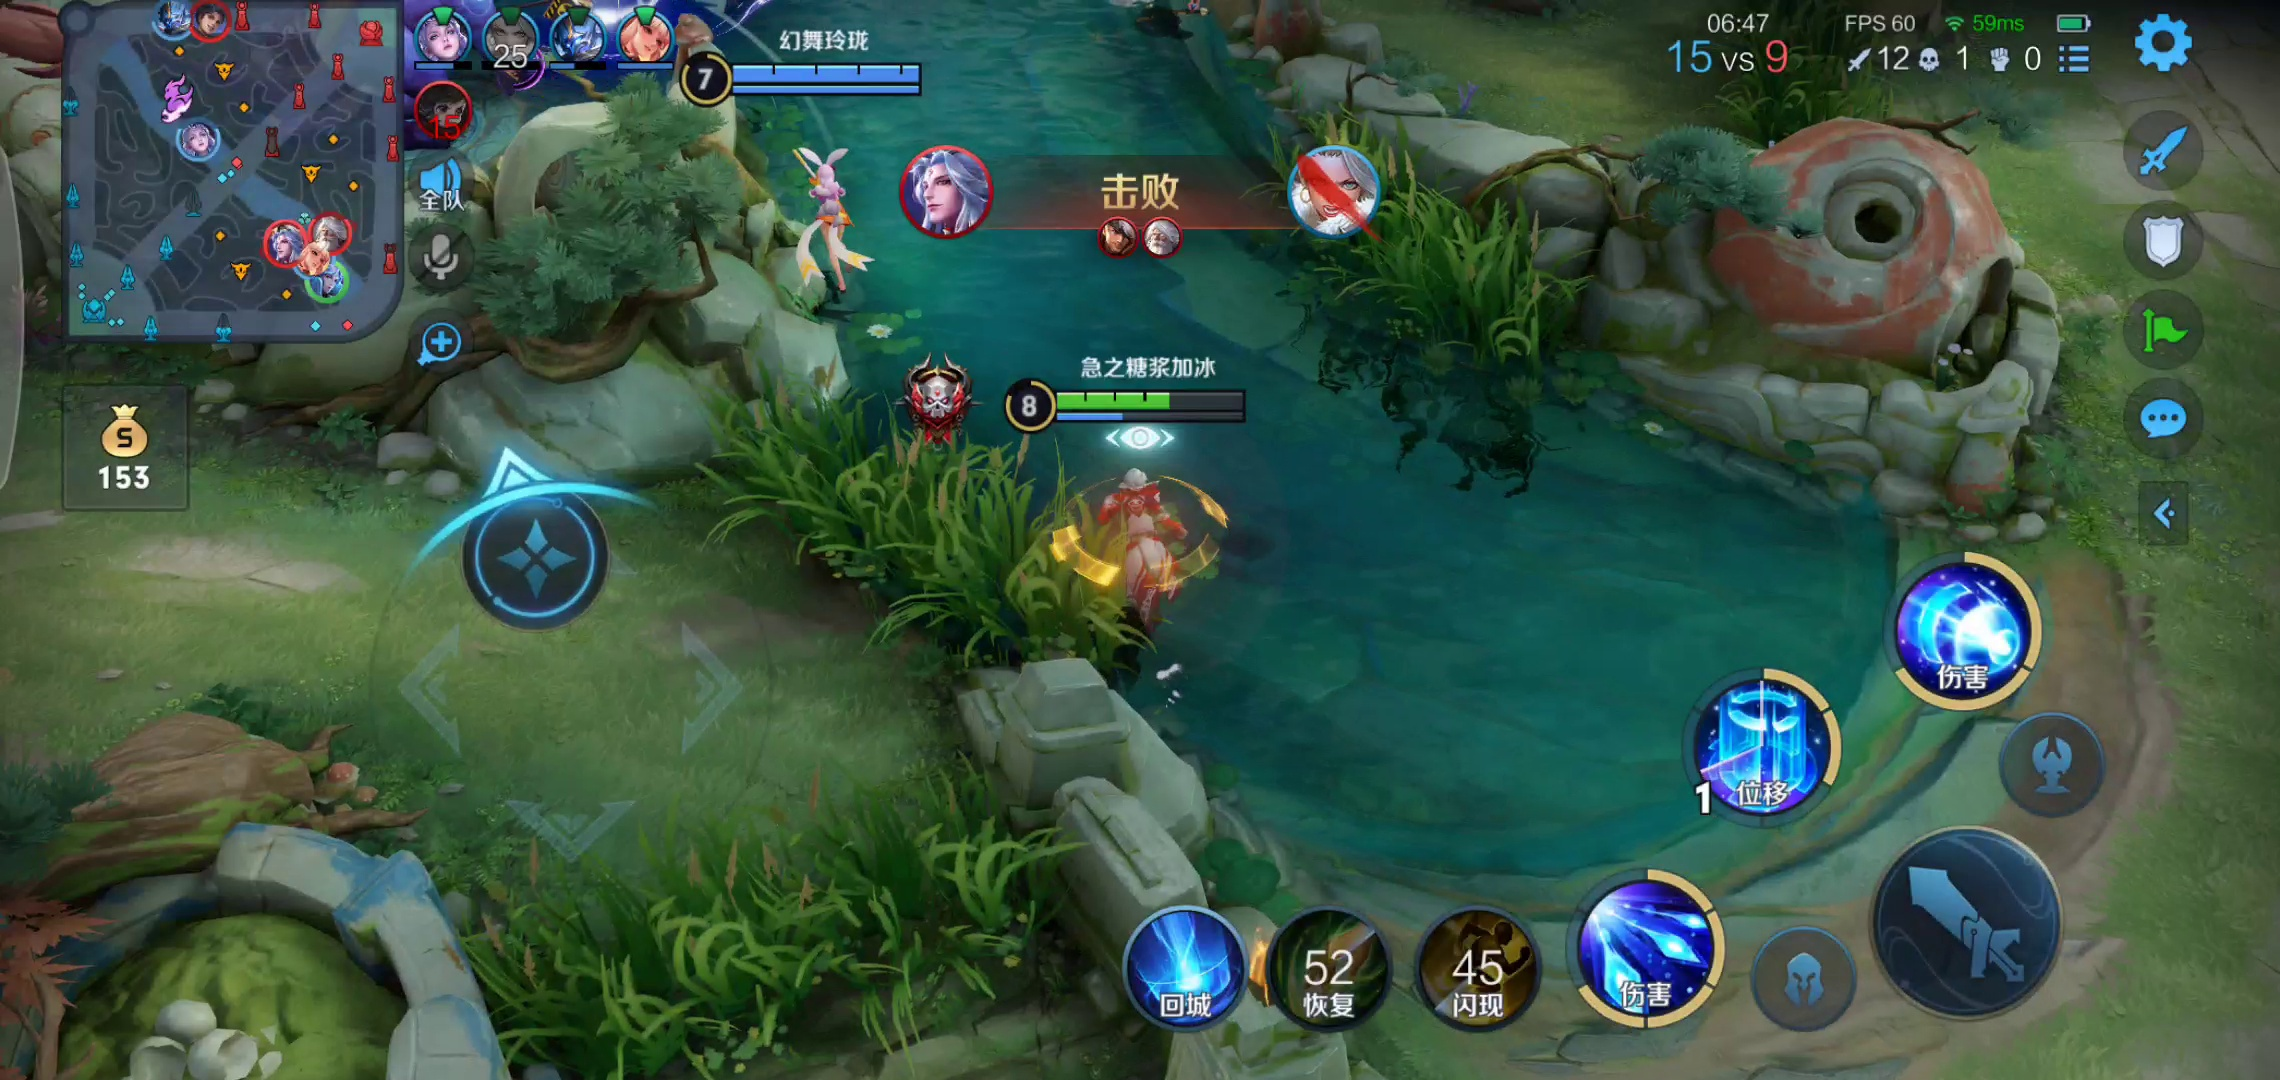grass: (459, 818, 1035, 1060), (742, 397, 1075, 645), (1277, 134, 1583, 390)
hero: (766, 131, 899, 307), (1086, 468, 1207, 626)
